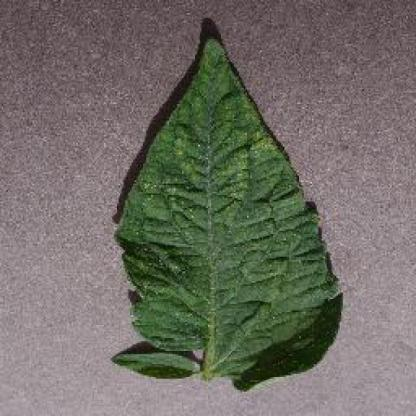Tomato_Spider_Mites: (113, 41, 342, 385)
